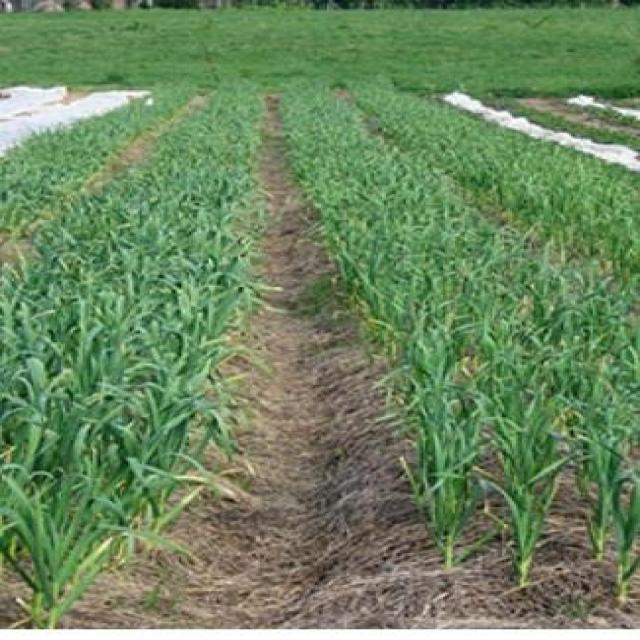row: (158, 93, 442, 630)
